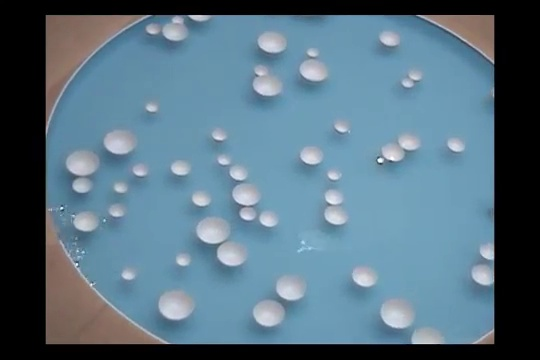bowl: (157, 289, 196, 320), (378, 297, 415, 328), (252, 299, 287, 328), (275, 273, 308, 302), (196, 216, 230, 244), (65, 150, 101, 176), (104, 128, 137, 155), (257, 30, 289, 55), (217, 242, 249, 266), (299, 57, 328, 83), (232, 182, 262, 205), (252, 76, 284, 97), (73, 211, 102, 234), (470, 260, 494, 287), (410, 326, 446, 344), (352, 265, 379, 288), (323, 205, 352, 226), (299, 144, 324, 166), (163, 22, 190, 42), (381, 142, 406, 163), (398, 133, 423, 151), (170, 158, 193, 176), (379, 30, 402, 47), (73, 176, 94, 194), (259, 210, 280, 228), (324, 188, 345, 206), (230, 164, 251, 181), (192, 190, 213, 207), (479, 239, 494, 262), (447, 137, 468, 153), (108, 202, 128, 218), (188, 13, 214, 23), (240, 206, 257, 221), (145, 22, 163, 36), (333, 119, 351, 133), (132, 164, 150, 178), (176, 251, 192, 266), (211, 128, 228, 142), (408, 68, 424, 82), (305, 46, 322, 59), (254, 65, 272, 77), (217, 152, 232, 166), (145, 100, 161, 113), (121, 267, 137, 280), (327, 169, 341, 182), (113, 181, 128, 193), (401, 78, 415, 89), (171, 15, 187, 24), (492, 87, 494, 100)
